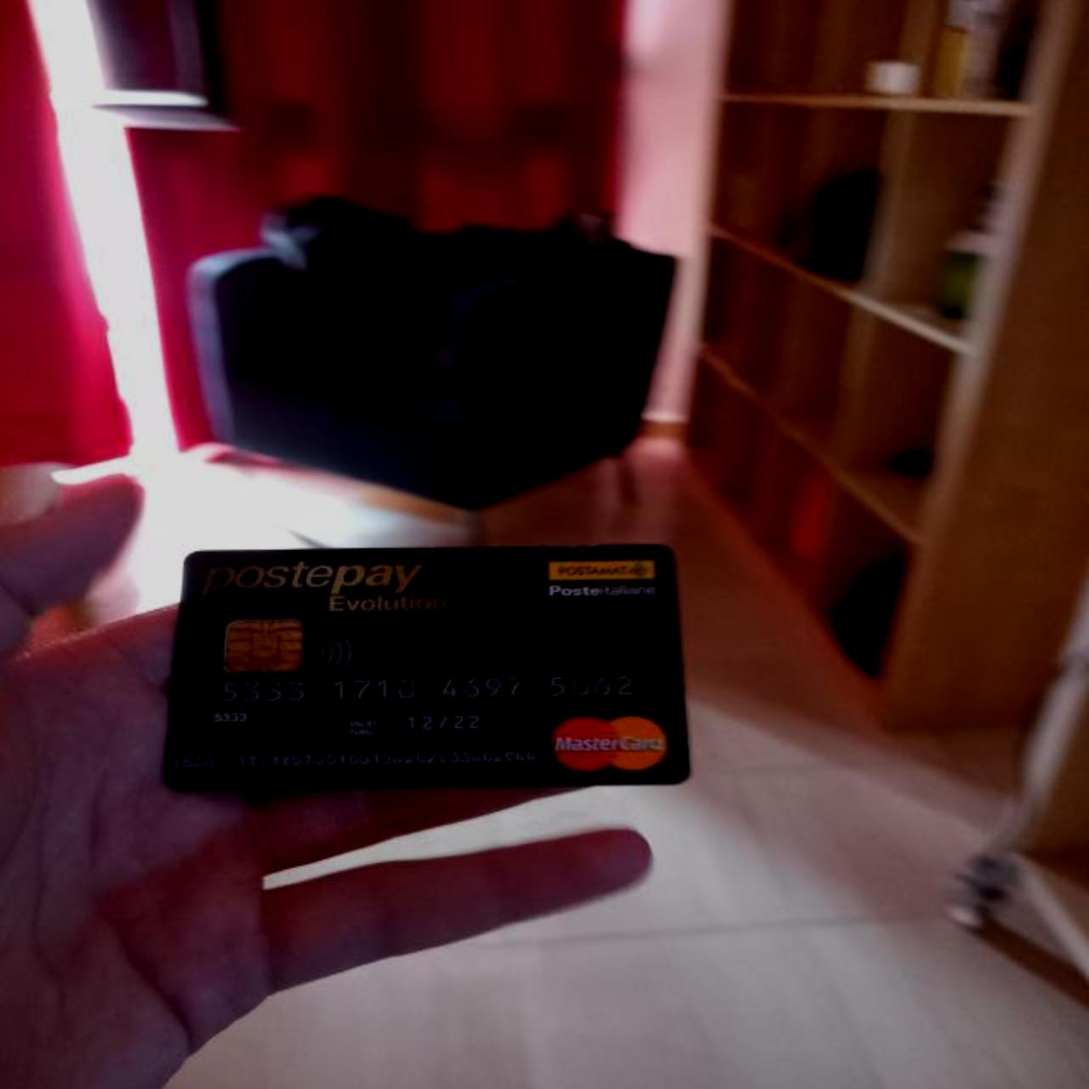credit_card: (160, 541, 694, 793)
